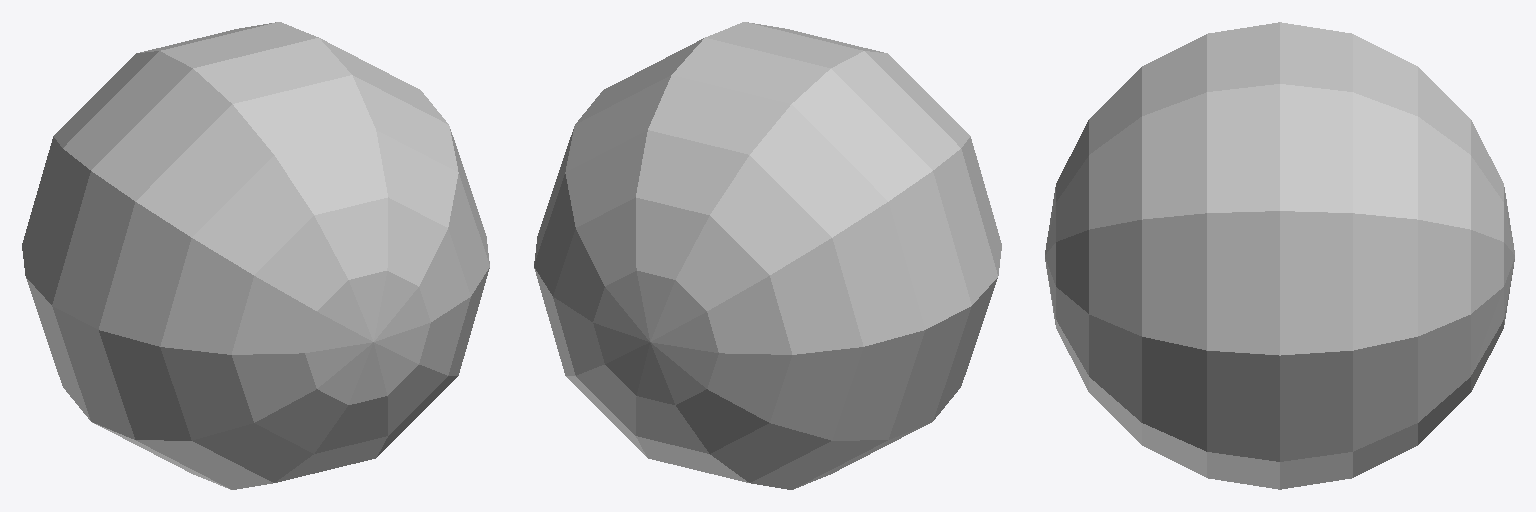
File: slug2.obj
The picture shows the model from 3 angles: view 1: azimuth 30°, elevation 25°; view 2: azimuth 150°, elevation 25°; view 3: azimuth 270°, elevation 25°; orthographic projection.
Parts seen in each view (by area): view 1: pSphere1; view 2: pSphere1; view 3: pSphere1.
Part boxes in pixels (bbox=[...]): pSphere1: bbox=[22, 22, 489, 489]; pSphere1: bbox=[534, 22, 1001, 489]; pSphere1: bbox=[1045, 22, 1514, 489].
Size of the model in its own units: 0.04 by 0.038 by 0.04.